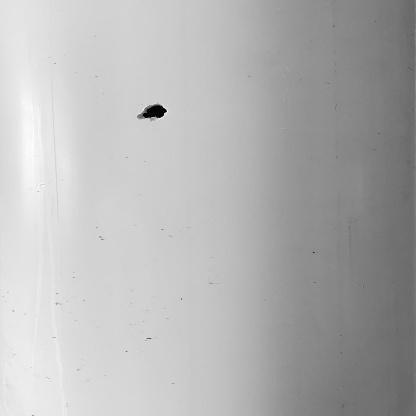kongdong: (129, 100, 178, 131)
